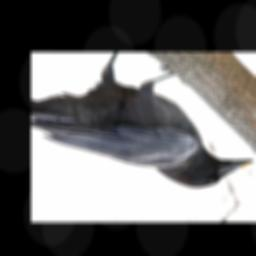Crow: (31, 52, 254, 188)
